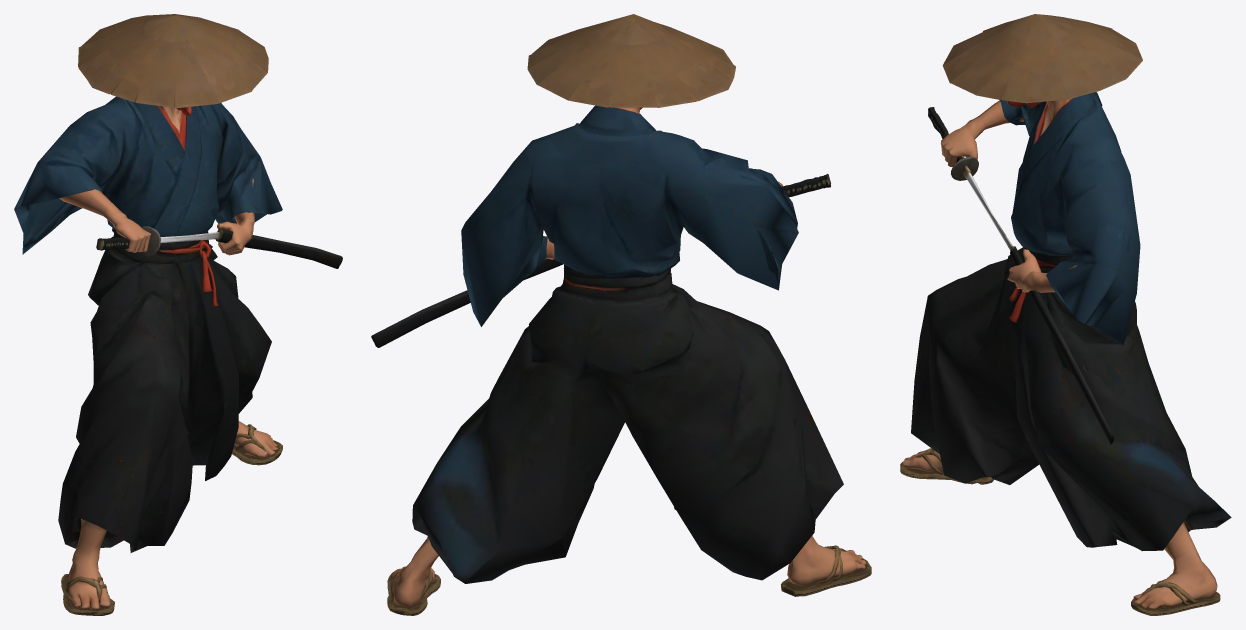
The picture shows the model from 3 angles, left to right: view 1: azimuth 30°, elevation 25°; view 2: azimuth 150°, elevation 25°; view 3: azimuth 270°, elevation 25°; orthographic projection. The views are drawn at different scales.
Parts seen in each view (by area): view 1: geometry_0; view 2: geometry_0; view 3: geometry_0.
Part boxes in pixels (<box>): geometry_0: <box>14,14,342,615</box>; geometry_0: <box>371,14,871,615</box>; geometry_0: <box>900,14,1231,615</box>.
Bounding box in the file's own units: 1.2 × 1.62 × 0.9258.
Materials: 1 (1 with a texture image).
